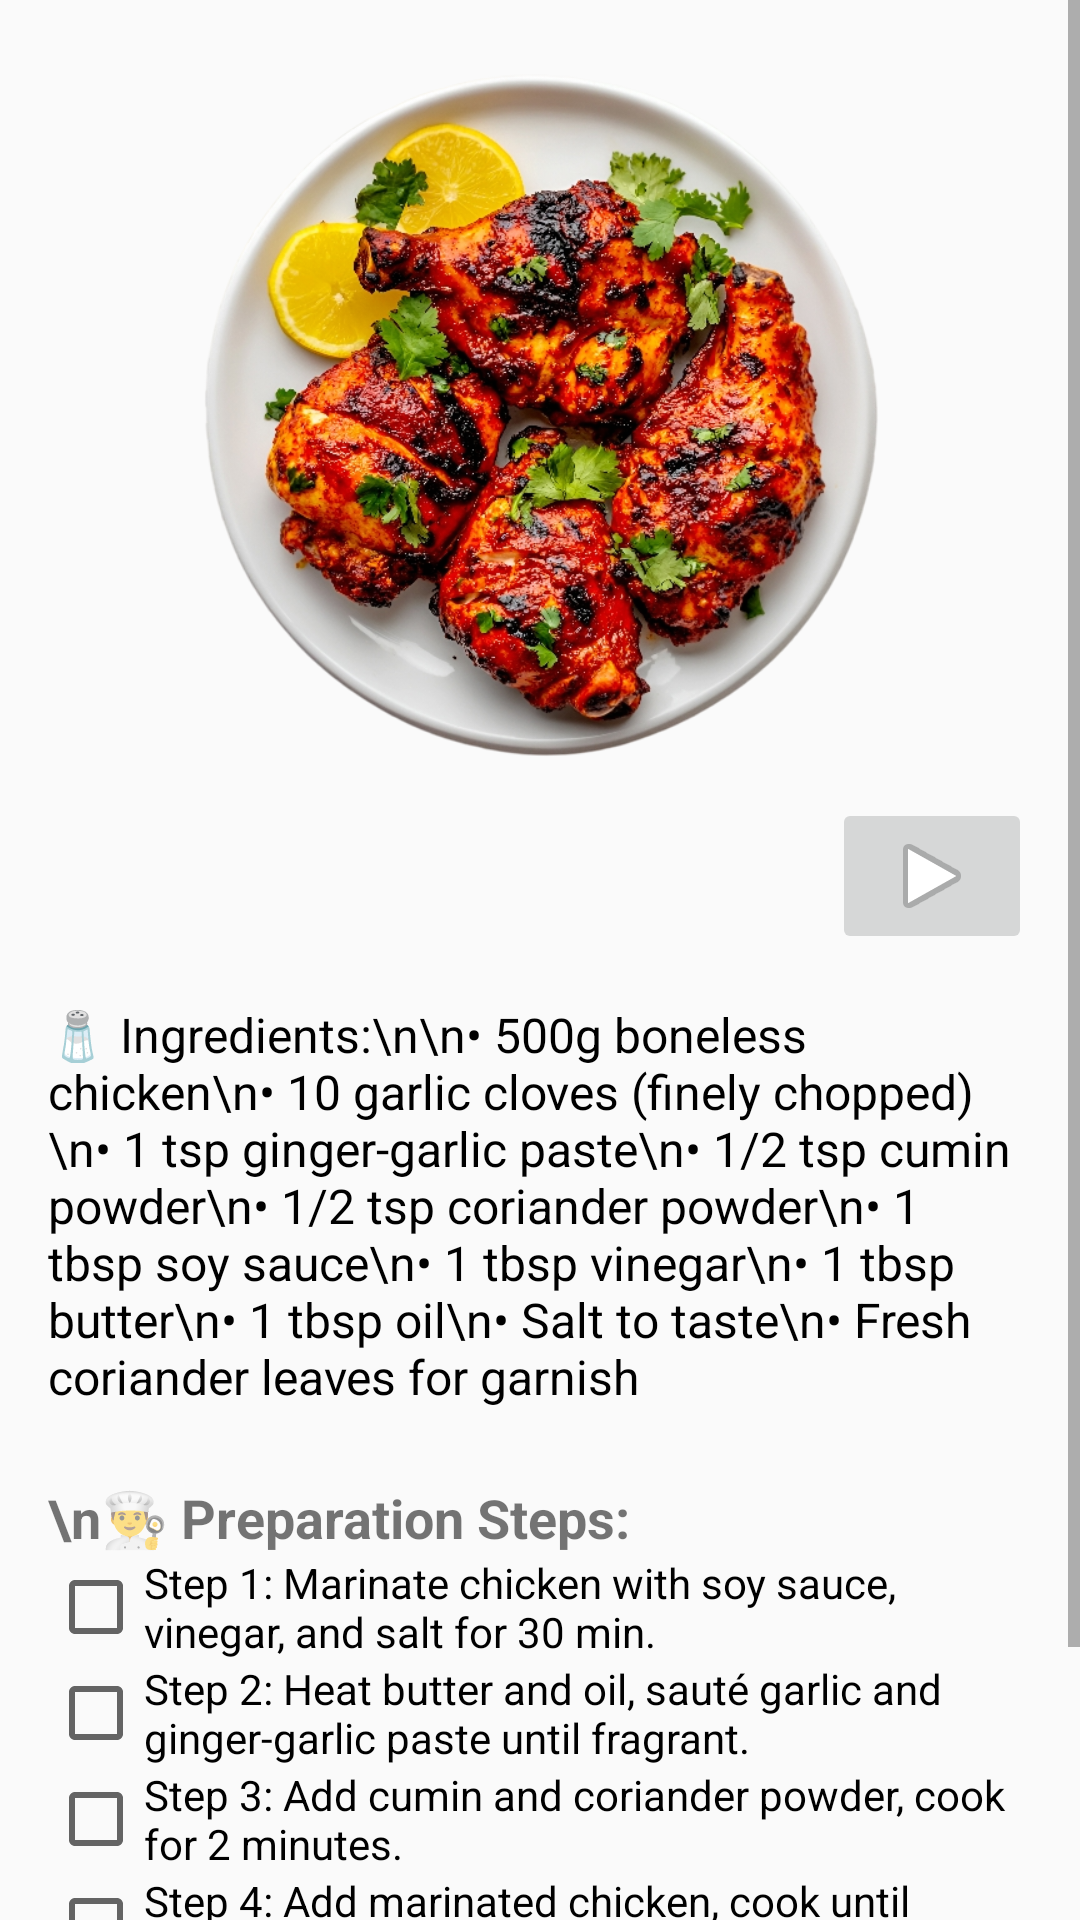

Icon bounding boxes for this 1080x1920 phone screenshot, format [left=x1, top=y1, right=x2, bottom=y2]:
play: [left=844, top=816, right=1020, bottom=936]
